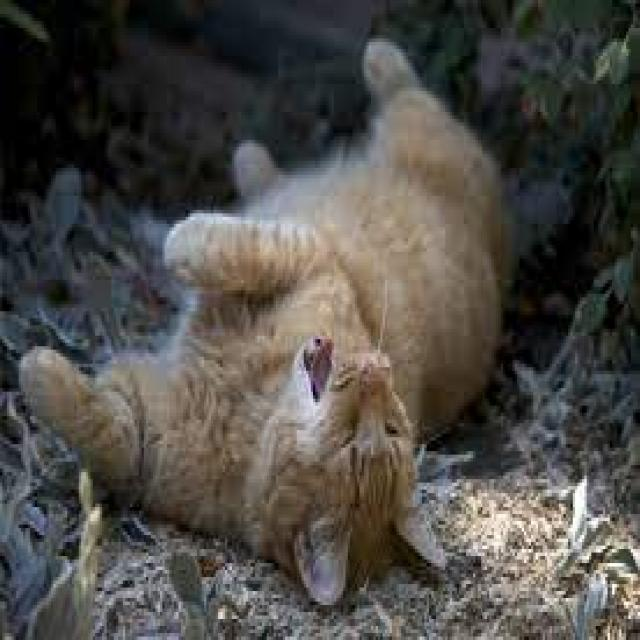cat: (20, 35, 506, 620)
